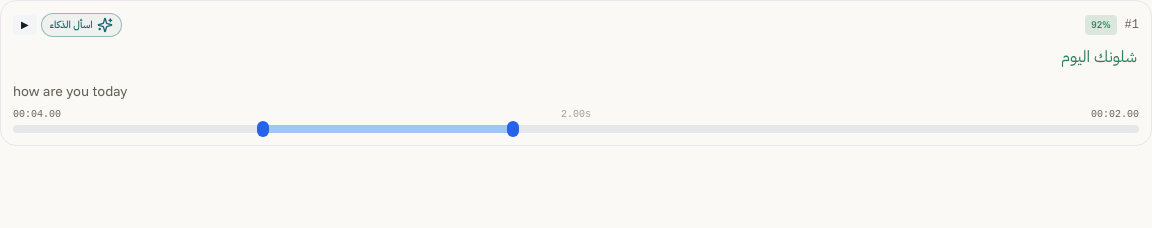
Test: editing the Arabic › abandons the edit on Escape
The width and height of the screenshot is (1152, 228).
Click the button "شلونك": (1116, 56) [1092,46,1139,66]
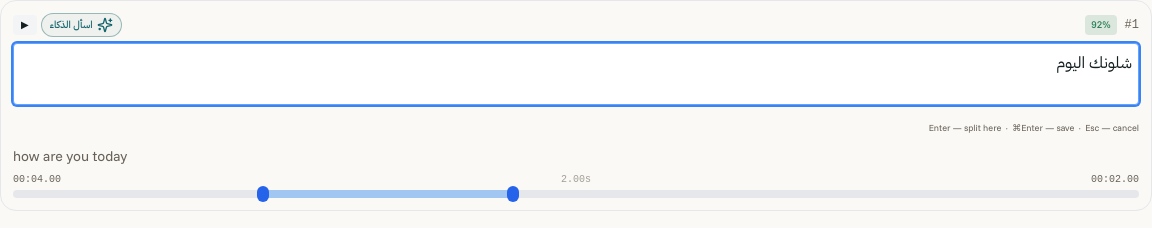
Replace the text in the text box with "wrong": (576, 74) [13,43,1139,105]
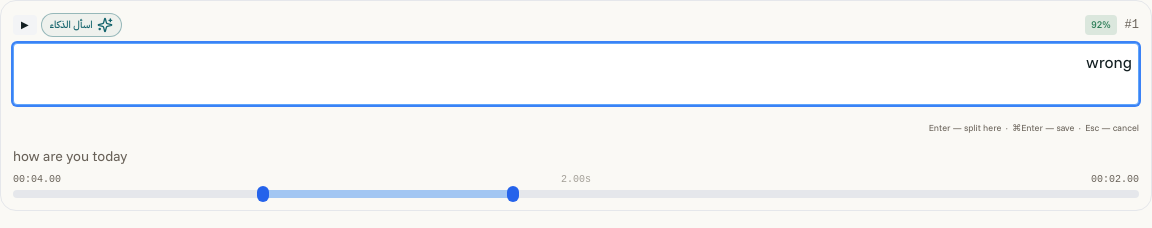
Press Escape in the text box, box [13,43,1139,105]
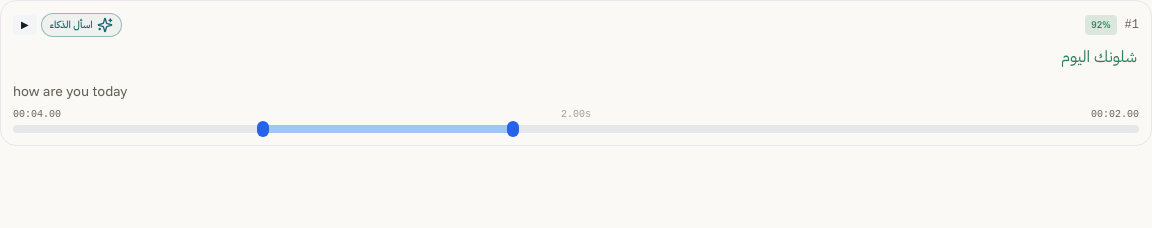
Expected: the button "شلونك" is shown, [1092,46,1139,66]
